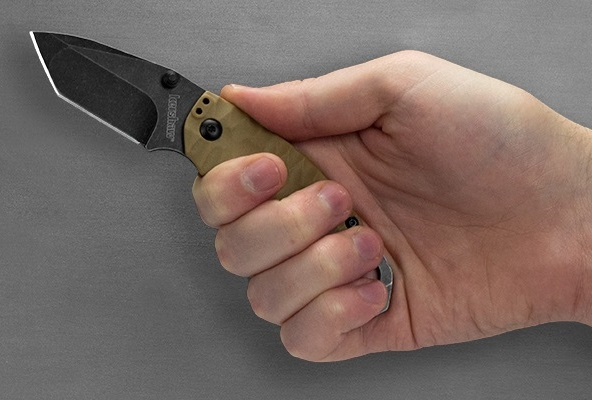knife: (20, 17, 384, 265)
